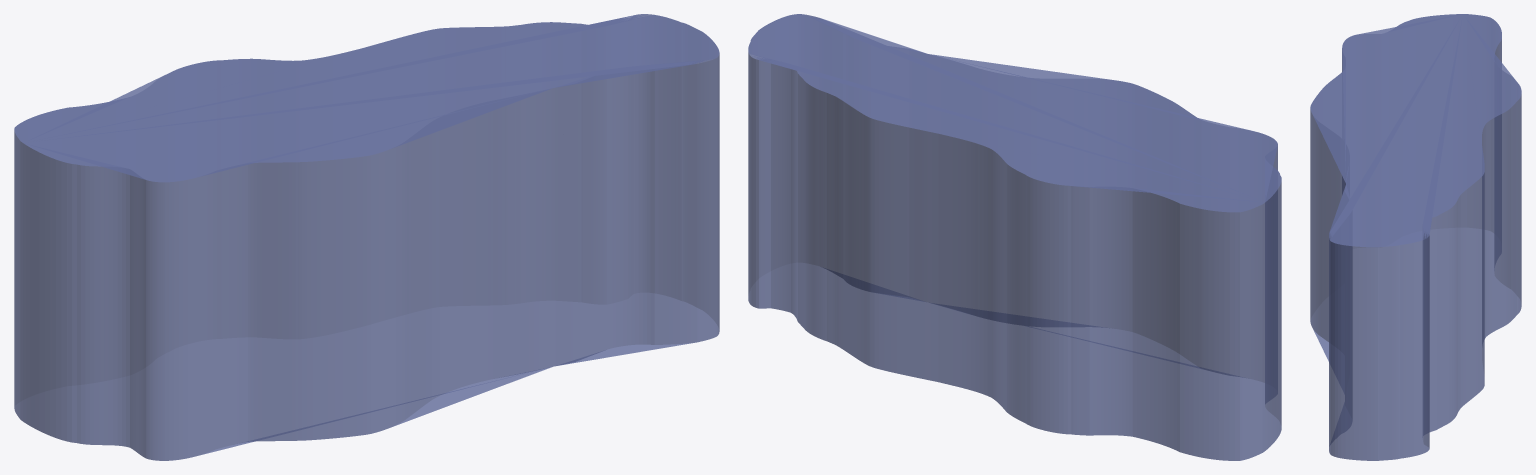
File: waterpuddle_collision.fbx
3 renders of one model, left to right at view 1: azimuth 30°, elevation 25°; view 2: azimuth 150°, elevation 25°; view 3: azimuth 270°, elevation 25°, orthographic. The views are drawn at different scales.
Parts seen in each view (by area): view 1: GP_Layer.001; view 2: GP_Layer.001; view 3: GP_Layer.001.
Part boxes in pixels (left/top/right/bottom): GP_Layer.001: left=14, top=14, right=719, bottom=460; GP_Layer.001: left=748, top=14, right=1281, bottom=460; GP_Layer.001: left=1310, top=14, right=1521, bottom=460.
Size of the model in its own units: 740 by 316 by 283.
